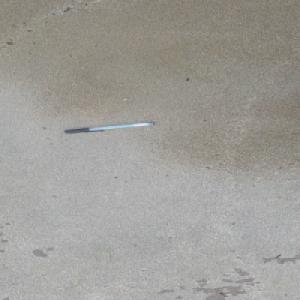Pen: (63, 120, 155, 133)
